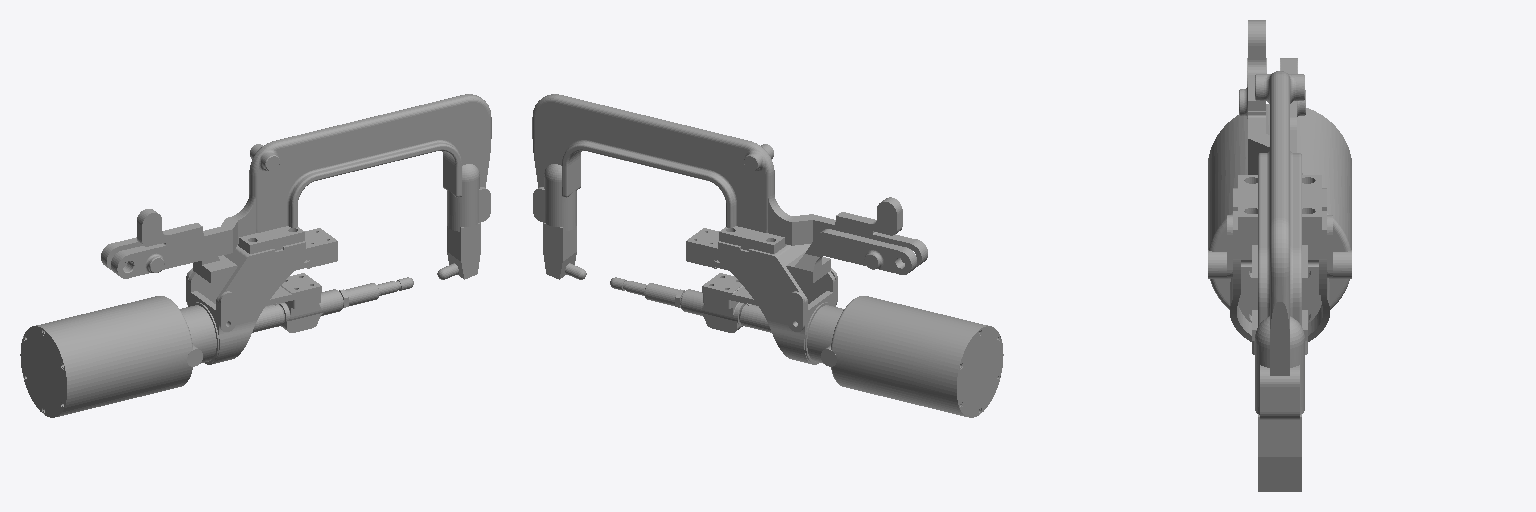
robot.urdf — robot:
<robot name="">
	<link name="base_link">
		<inertial>
			<origin rpy="0.00000 -0.00000 0.00000" xyz="-0.02780 0.00039 0.14035" />
			<mass value="1572.90000" />
			<inertia ixx="147.38224" ixy="0" ixz="0" iyy="202.17262" iyz="0" izz="319.78450" />
		</inertial>
		<visual>
			<origin rpy="-1.57080 0.00000 0.00000" xyz="0.00000 0.00000 0.00000" />
			<geometry>
				<mesh filename="rlbotics/envs/models/robots/kuka/kr210/meshes/kr210l150/visual/base_link.stl" scale="1.00000 1.00000 1.00000" />
			</geometry>
			<material name="0">
				<color rgba="0.05490 0.14510 0.20000 1.00000" />
			</material>
		</visual>
		<collision>
			<origin rpy="-1.57080 0.00000 0.00000" xyz="0.00000 0.00000 0.00000" />
			<geometry>
				<mesh filename="rlbotics/envs/models/robots/kuka/kr210/meshes/kr210l150/collision/base_link.stl" scale="1.00000 1.00000 1.00000" />
			</geometry>
		</collision>
	</link>
	<link name="link_1">
		<inertial>
			<origin rpy="0.00000 -0.00000 0.00000" xyz="-0.03681 -0.02470 0.56577" />
			<mass value="1385.50000" />
			<inertia ixx="150.64281" ixy="0" ixz="0" iyy="203.49709" iyz="0" izz="250.48282" />
		</inertial>
		<visual>
			<origin rpy="0.00000 -0.00000 0.00000" xyz="0.00000 0.00000 0.00000" />
			<geometry>
				<mesh filename="rlbotics/envs/models/robots/kuka/kr210/meshes/kr210l150/visual/link_1.stl" scale="1.00000 1.00000 1.00000" />
			</geometry>
			<material name="1">
				<color rgba="0.94902 0.36078 0.09804 1.00000" />
			</material>
		</visual>
		<collision>
			<origin rpy="0.00000 -0.00000 0.00000" xyz="0.00000 0.00000 0.00000" />
			<geometry>
				<mesh filename="rlbotics/envs/models/robots/kuka/kr210/meshes/kr210l150/collision/link_1.stl" scale="1.00000 1.00000 1.00000" />
			</geometry>
		</collision>
	</link>
	<link name="link_2">
		<inertial>
			<origin rpy="0.00000 -0.00000 0.00000" xyz="0.01692 -0.19196 0.44751" />
			<mass value="958.62000" />
			<inertia ixx="242.63225" ixy="0" ixz="0" iyy="241.46543" iyz="0" izz="38.45678" />
		</inertial>
		<visual>
			<origin rpy="-1.57080 0.00000 0.00000" xyz="0.00000 0.00000 0.00000" />
			<geometry>
				<mesh filename="rlbotics/envs/models/robots/kuka/kr210/meshes/kr210l150/visual/link_2.stl" scale="1.00000 1.00000 1.00000" />
			</geometry>
			<material name="2">
				<color rgba="0.94902 0.36078 0.09804 1.00000" />
			</material>
		</visual>
		<collision>
			<origin rpy="0.00000 -0.00000 0.00000" xyz="0.00000 0.00000 0.00000" />
			<geometry>
				<mesh filename="rlbotics/envs/models/robots/kuka/kr210/meshes/kr210l150/collision/link_2.stl" scale="1.00000 1.00000 1.00000" />
			</geometry>
		</collision>
	</link>
	<link name="link_3">
		<inertial>
			<origin rpy="0.00000 -0.00000 0.00000" xyz="0.18842 0.18344 -0.04280" />
			<mass value="710.03000" />
			<inertia ixx="31.03103" ixy="0" ixz="0" iyy="128.15244" iyz="0" izz="124.72848" />
		</inertial>
		<visual>
			<origin rpy="-1.57080 0.00000 0.00000" xyz="0.00000 0.00000 0.00000" />
			<geometry>
				<mesh filename="rlbotics/envs/models/robots/kuka/kr210/meshes/kr210l150/visual/link_3.stl" scale="1.00000 1.00000 1.00000" />
			</geometry>
			<material name="3">
				<color rgba="0.94902 0.36078 0.09804 1.00000" />
			</material>
		</visual>
		<collision>
			<origin rpy="0.00000 -0.00000 0.00000" xyz="0.00000 0.00000 0.00000" />
			<geometry>
				<mesh filename="rlbotics/envs/models/robots/kuka/kr210/meshes/kr210l150/collision/link_3.stl" scale="1.00000 1.00000 1.00000" />
			</geometry>
		</collision>
	</link>
	<link name="link_4">
		<inertial>
			<origin rpy="0.00000 -0.00000 0.00000" xyz="0.27146 -0.00733 0.00005" />
			<mass value="173.73000" />
			<inertia ixx="2.59544" ixy="0" ixz="0" iyy="7.06362" iyz="0" izz="7.87822" />
		</inertial>
		<visual>
			<origin rpy="-1.57080 0.00000 0.00000" xyz="0.00000 0.00000 0.00000" />
			<geometry>
				<mesh filename="rlbotics/envs/models/robots/kuka/kr210/meshes/kr210l150/visual/link_4.stl" scale="1.00000 1.00000 1.00000" />
			</geometry>
			<material name="4">
				<color rgba="0.94902 0.36078 0.09804 1.00000" />
			</material>
		</visual>
		<collision>
			<origin rpy="0.00000 -0.00000 0.00000" xyz="0.00000 0.00000 0.00000" />
			<geometry>
				<mesh filename="rlbotics/envs/models/robots/kuka/kr210/meshes/kr210l150/collision/link_4.stl" scale="1.00000 1.00000 1.00000" />
			</geometry>
		</collision>
	</link>
	<link name="link_5">
		<inertial>
			<origin rpy="0.00000 -0.00000 0.00000" xyz="0.04379 0.02598 0.00000" />
			<mass value="72.17000" />
			<inertia ixx="0.72730" ixy="0" ixz="0" iyy="0.97404" iyz="0" izz="0.97344" />
		</inertial>
		<visual>
			<origin rpy="-1.57080 0.00000 0.00000" xyz="0.00000 0.00000 0.00000" />
			<geometry>
				<mesh filename="rlbotics/envs/models/robots/kuka/kr210/meshes/kr210l150/visual/link_5.stl" scale="1.00000 1.00000 1.00000" />
			</geometry>
			<material name="5">
				<color rgba="0.94902 0.36078 0.09804 1.00000" />
			</material>
		</visual>
		<collision>
			<origin rpy="0.00000 -0.00000 0.00000" xyz="0.00000 0.00000 0.00000" />
			<geometry>
				<mesh filename="rlbotics/envs/models/robots/kuka/kr210/meshes/kr210l150/collision/link_5.stl" scale="1.00000 1.00000 1.00000" />
			</geometry>
		</collision>
	</link>
	<link name="link_6">
		<inertial>
			<origin rpy="0.00000 -0.00000 0.00000" xyz="-0.01796 -0.00002 0.00015" />
			<mass value="6.31540" />
			<inertia ixx="0.04370" ixy="0" ixz="0" iyy="0.02283" iyz="0" izz="0.02286" />
		</inertial>
		<visual>
			<origin rpy="0.00000 -0.00000 0.00000" xyz="0.00000 0.00000 0.00000" />
			<geometry>
				<mesh filename="rlbotics/envs/models/robots/kuka/kr210/meshes/kr210l150/visual/link_6.stl" scale="1.00000 1.00000 1.00000" />
			</geometry>
			<material name="6">
				<color rgba="0.75294 0.75294 0.75294 1.00000" />
			</material>
		</visual>
		<collision>
			<origin rpy="0.00000 -0.00000 0.00000" xyz="0.00000 0.00000 0.00000" />
			<geometry>
				<mesh filename="rlbotics/envs/models/robots/kuka/kr210/meshes/kr210l150/collision/link_6.stl" scale="1.00000 1.00000 1.00000" />
			</geometry>
		</collision>
	</link>
	<link name="tool0">
		<inertial>
			<origin rpy="0.00000 -0.00000 0.00000" xyz="0.00000 0.00000 0.00000" />
			<mass value="1.00000" />
			<inertia ixx="0.00000" ixy="0" ixz="0" iyy="0.00000" iyz="0" izz="0.00000" />
		</inertial>
	</link>
	<link name="Link1">
		<inertial>
			<origin rpy="0.00000 -0.00000 0.00000" xyz="0.00000 0.00000 0.00000" />
			<mass value="1.00000" />
			<inertia ixx="0.00000" ixy="0" ixz="0" iyy="0.00000" iyz="0" izz="0.00000" />
		</inertial>
	</link>
	<link name="root">
		<inertial>
			<origin rpy="0.00000 -0.00000 0.00000" xyz="0.50570 -0.00054 0.18351" />
			<mass value="2.00000" />
			<inertia ixx="0.02909" ixy="0" ixz="0" iyy="0.13991" iyz="0" izz="0.11897" />
		</inertial>
		<visual>
			<origin rpy="0.00000 -0.00000 0.00000" xyz="0.39949 0.00000 0.14487" />
			<geometry>
				<mesh filename="rlbotics/envs/models/end_effectors/welding/spot_welding_gun/meshes/stl/RFC-22-G01 v2.stl" scale="0.00116 0.00116 0.00116" />
			</geometry>
			<material name="7">
				<color rgba="0.67059 0.67059 0.67059 1.00000" />
			</material>
		</visual>
		<collision>
			<origin rpy="0.00000 -0.00000 0.00000" xyz="0.39946 -0.00043 0.14496" />
			<geometry>
				<mesh filename="rlbotics/envs/models/end_effectors/welding/spot_welding_gun/meshes/stl/RFC-22-G01 v2.001.stl" scale="0.78991 0.78991 0.78991" />
			</geometry>
		</collision>
	</link>
	<link name="ee_joint_arm">
		<inertial>
			<origin rpy="0.00000 -0.00000 0.00000" xyz="0.00000 0.00000 0.00000" />
			<mass value="0.00100" />
			<inertia ixx="0.00000" ixy="0" ixz="0" iyy="0.00000" iyz="0" izz="0.00000" />
		</inertial>
	</link>
	<link name="nozzle_tip">
		<inertial>
			<origin rpy="0.00000 -0.00000 0.00000" xyz="0.00000 0.00000 0.00000" />
			<mass value="0.00100" />
			<inertia ixx="0.00000" ixy="0" ixz="0" iyy="0.00000" iyz="0" izz="0.00000" />
		</inertial>
	</link>
	<joint name="joint_a1" type="revolute">
		<parent link="base_link" />
		<child link="link_1" />
		<dynamics damping="0.0" friction="0.0" />
		<origin rpy="0.00000 -0.00000 0.00000" xyz="-0.00262 0.00098 0.33099" />
		<axis xyz="0.00000 0.00000 1.00000" />
	<limit effort="0.0" lower="-3.2288591161895095" upper="3.2288591161895095" velocity="2.1467549799530254" /></joint>
	<joint name="joint_a2" type="revolute">
		<parent link="link_1" />
		<child link="link_2" />
		<dynamics damping="0.0" friction="0.0" />
		<origin rpy="0.00000 -0.00000 0.00000" xyz="0.35277 -0.03748 0.41920" />
		<axis xyz="0.00000 1.00000 0.00000" />
	<limit effort="0.0" lower="-0.7853981633974483" upper="1.4835298641951802" velocity="2.007128639793479" /></joint>
	<joint name="joint_a3" type="revolute">
		<parent link="link_2" />
		<child link="link_3" />
		<dynamics damping="0.0" friction="0.0" />
		<origin rpy="0.00000 -0.00000 0.00000" xyz="-0.00010 -0.14750 1.24990" />
		<axis xyz="0.00000 1.00000 0.00000" />
	<limit effort="0.0" lower="-3.6651914291880923" upper="1.1344640137963142" velocity="1.9547687622336491" /></joint>
	<joint name="joint_a4" type="revolute">
		<parent link="link_3" />
		<child link="link_4" />
		<dynamics damping="0.0" friction="0.0" />
		<origin rpy="0.00000 -0.00000 0.00000" xyz="0.95795 0.18400 -0.05506" />
		<axis xyz="1.00000 0.00000 0.00000" />
	<limit effort="0.0" lower="-6.1086523819801535" upper="6.1086523819801535" velocity="3.12413936106985" /></joint>
	<joint name="joint_a5" type="revolute">
		<parent link="link_4" />
		<child link="link_5" />
		<dynamics damping="0.0" friction="0.0" />
		<origin rpy="0.00000 -0.00000 0.00000" xyz="0.54200 0.00000 0.00000" />
		<axis xyz="0.00000 1.00000 0.00000" />
	<limit effort="0.0" lower="-2.181661564992912" upper="2.181661564992912" velocity="3.001966313430247" /></joint>
	<joint name="joint_a6" type="revolute">
		<parent link="link_5" />
		<child link="link_6" />
		<dynamics damping="0.0" friction="0.0" />
		<origin rpy="0.00000 -0.00000 0.00000" xyz="0.19250 0.00000 0.00000" />
		<axis xyz="1.00000 0.00000 0.00000" />
	<limit effort="0.0" lower="-6.1086523819801535" upper="6.1086523819801535" velocity="3.822271061867582" /></joint>
	<joint name="link_6-tool0" type="fixed">
		<parent link="link_6" />
		<child link="tool0" />
		<dynamics damping="1.0" friction="0.0001" />
		<origin rpy="0.00000 -0.00000 0.00000" xyz="0.03750 0.00000 -0.00024" />
		<axis xyz="0.00000 0.00000 0.00000" />
	</joint>
	<joint name="Link1-link_1" type="fixed">
		<parent link="link_1" />
		<child link="Link1" />
		<dynamics damping="1.0" friction="0.0001" />
		<origin rpy="0.00000 -0.00000 0.00000" xyz="0.00000 0.00000 0.00000" />
		<axis xyz="0.00000 0.00000 0.00000" />
	</joint>
	<joint name="joint_dummy1" type="fixed">
		<parent link="link_6" />
		<child link="root" />
		<dynamics damping="1.0" friction="0.0001" />
		<origin rpy="0.00000 0.00000 0.00000" xyz="0.00000 0.00000 0.00000" />
		<axis xyz="0.00000 0.00000 1.00000" />
	</joint>
	<joint name="ee_joint_arm" type="fixed">
		<parent link="root" />
		<child link="ee_joint_arm" />
		<dynamics damping="1.0" friction="0.0001" />
		<origin rpy="0.00000 1.57080 -0.00000" xyz="-0.00372 -0.00266 0.00071" />
		<axis xyz="0.00000 0.00000 0.00000" />
	</joint>
	<joint name="nozzle_tip" type="fixed">
		<parent link="root" />
		<child link="nozzle_tip" />
		<dynamics damping="1.0" friction="0.0001" />
		<origin rpy="0.00000 1.57080 -0.00000" xyz="0.67936 0.00000 0.00043" />
		<axis xyz="0.00000 0.00000 0.00000" />
	</joint>
</robot>

--- What the picture shows (computed from the rendered views, not written in the file) ---
3 views of the same robot in one strip: view 1: azimuth 30°, elevation 25°; view 2: azimuth 150°, elevation 25°; view 3: azimuth 270°, elevation 25° (orthographic).
Model robot with 12 links and 11 joints (6 revolute, 5 fixed), rooted at base_link, posed every joint at zero.
Links seen in each view (by area): view 1: root; view 2: root; view 3: root.
Boxes of the visible links, bbox=[...] form: root: bbox=[20, 94, 491, 417]; root: bbox=[532, 94, 1003, 417]; root: bbox=[1208, 20, 1351, 491].
Bounding box of the posed robot: 0.8271 × 0.1508 × 0.3828 m (x, y, z).
Meshes: 8 distinct files referenced, 1 mesh visuals loaded (1 binary STL); not drawn: 7 (reference not matched to a file when rendering).